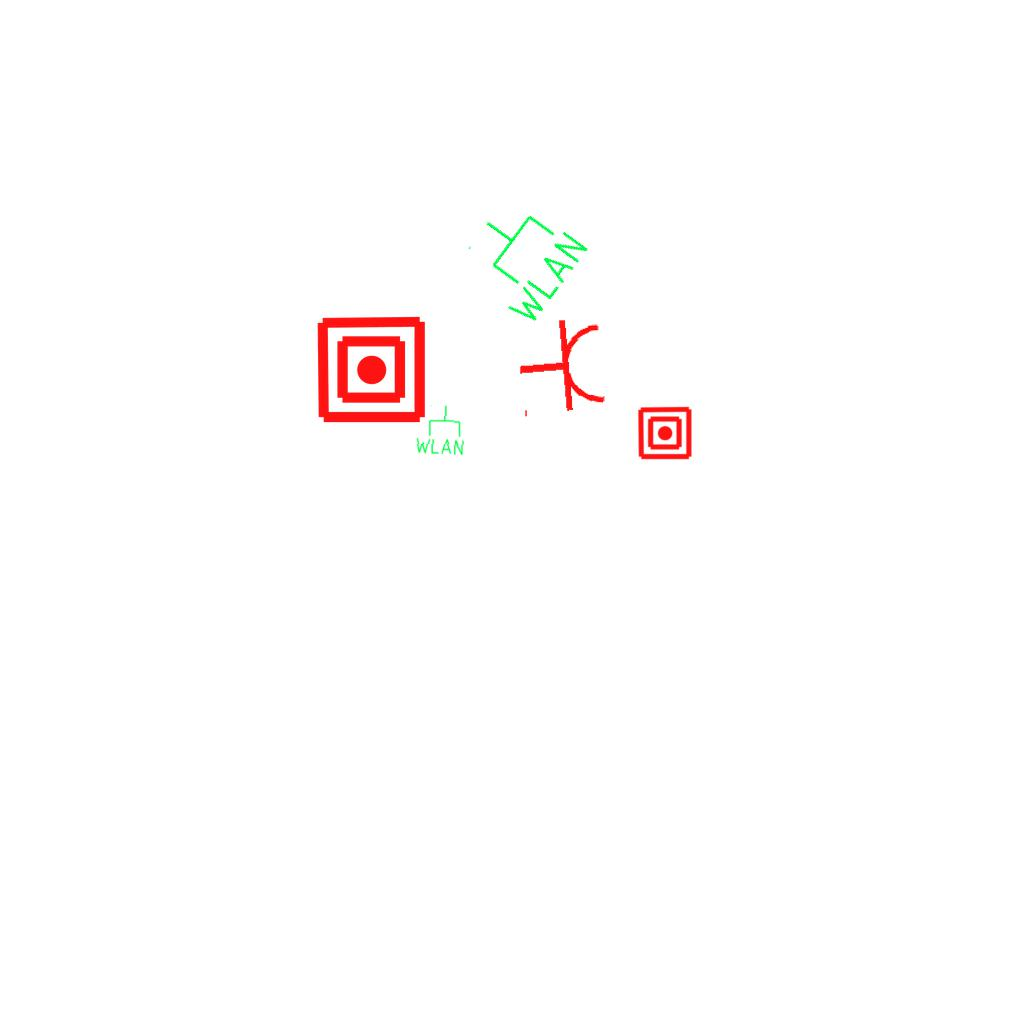NAM-Nichtautomatischer_Melder: (315, 313, 428, 426), (637, 405, 693, 461)
Schukosteckdose_einfach: (513, 314, 610, 422)
WLAN: (448, 186, 594, 333), (413, 403, 467, 457)
